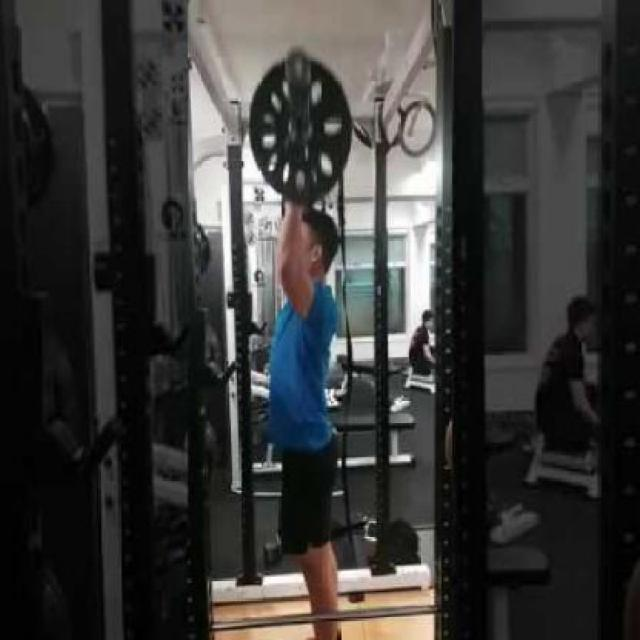barbell: (250, 43, 358, 206)
